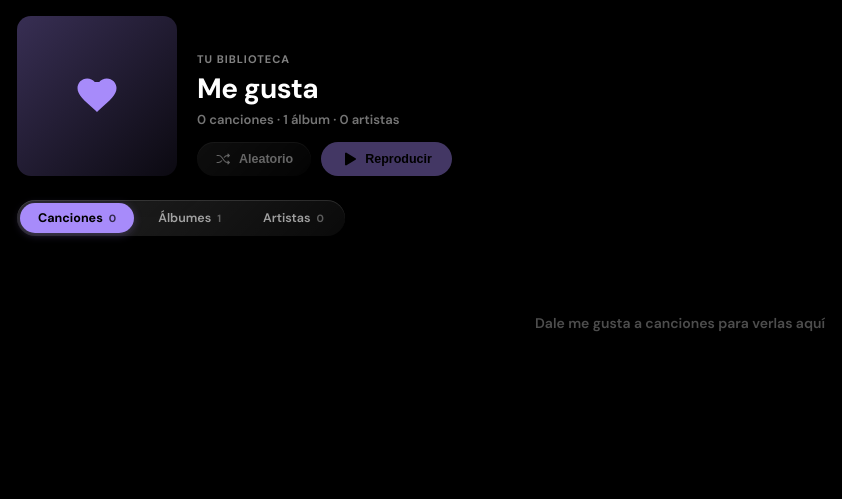
LikedView › disables play when the ACTIVE tab's list is empty
This screenshot has width=842, height=499.
Check: the button with test id "hero-play" is disabled, box x1=321 y1=142 x2=452 y2=176
Click the tab "Álbumes 1".
click(190, 218)  # box x1=140 y1=203 x2=239 y2=233
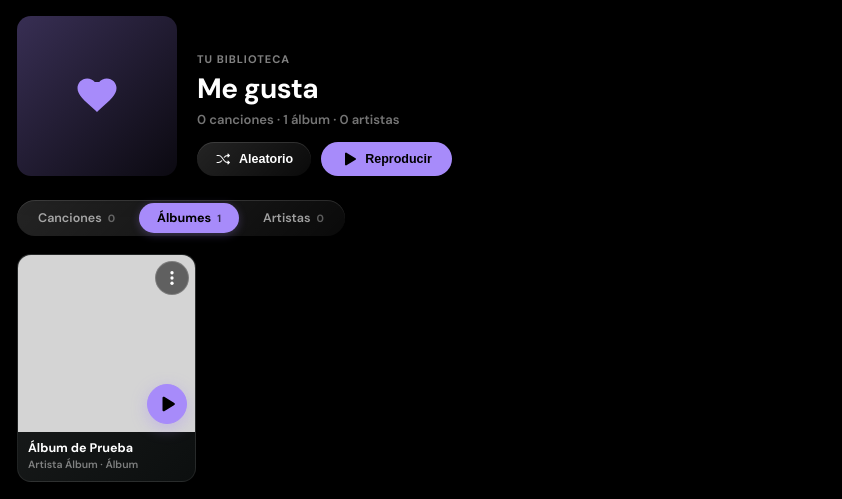
Check: the button with test id "hero-play" is enabled, box x1=321 y1=142 x2=452 y2=176
Click the tab "Canciones 0".
click(77, 218)  # box x1=20 y1=203 x2=133 y2=233
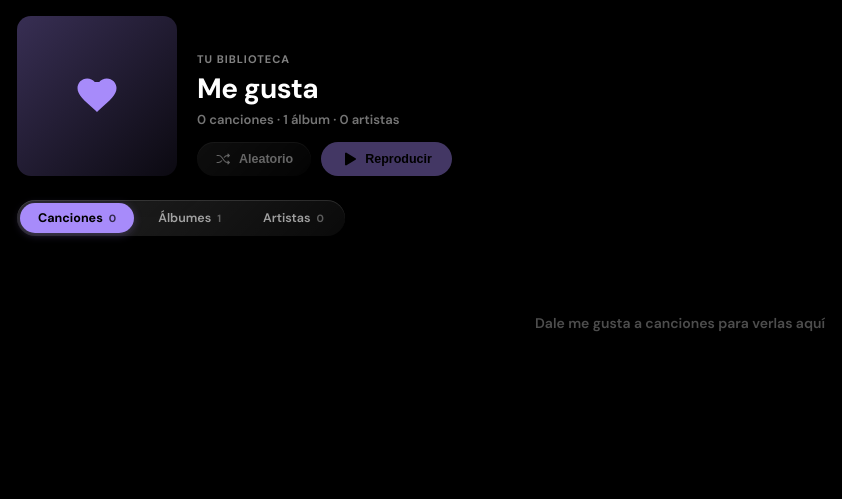
Check: the button with test id "hero-play" is disabled, box x1=321 y1=142 x2=452 y2=176
